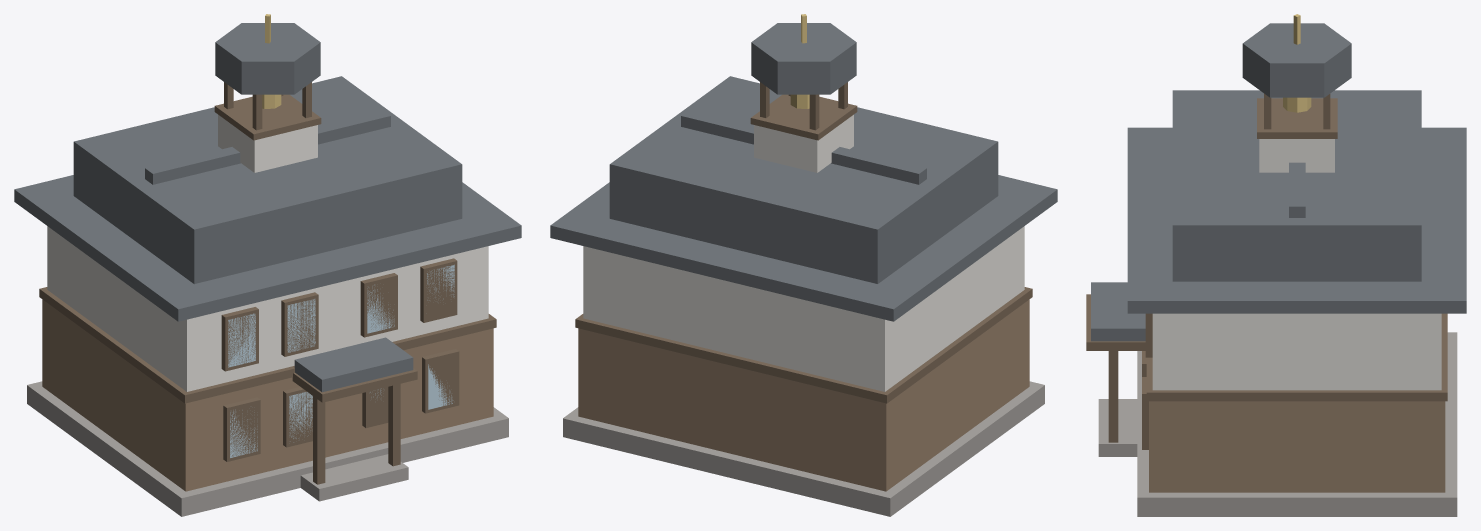
Rendered from civic_school.glb.
The picture shows the model from 3 angles, left to right: view 1: azimuth 30°, elevation 25°; view 2: azimuth 150°, elevation 25°; view 3: azimuth 270°, elevation 25°; orthographic projection. The views are drawn at different scales.
Visible parts, largest first — view 1: Main_Roof_Peak, School_Lower_Body, School_Upper_Body, Main_Roof_Eaves, School_Base, Cupola_Roof, Trim_Mid, Porch_Roof_Slope, Main_Roof_Ridge, Cupola_Base, Porch_Step, Cupola_Trim (+17 smaller); view 2: Main_Roof_Peak, School_Lower_Body, School_Upper_Body, Main_Roof_Eaves, School_Base, Cupola_Roof, Trim_Mid, Main_Roof_Ridge, Cupola_Base, Cupola_Trim; view 3: Main_Roof_Peak, School_Lower_Body, Main_Roof_Eaves, School_Upper_Body, School_Base, Cupola_Roof, Trim_Mid, Porch_Roof_Slope, Cupola_Trim, Cupola_Base, Porch_Step, Porch_Col_R (+3 smaller).
Part boxes in pixels (x1,y1,x2,y2): Main_Roof_Peak: (73,76,462,283); School_Lower_Body: (42,299,493,491); School_Upper_Body: (47,226,488,391); Main_Roof_Eaves: (14,175,521,321); School_Base: (27,381,508,516); Cupola_Roof: (215,23,320,94); Trim_Mid: (39,287,496,403); Porch_Roof_Slope: (294,337,413,392); Main_Roof_Ridge: (145,110,390,184); Cupola_Base: (218,114,317,172); Porch_Step: (300,454,408,501); Cupola_Trim: (214,94,321,140); Main_Roof_Peak: (609,76,998,283); School_Lower_Body: (578,299,1029,491); School_Upper_Body: (583,226,1024,391); Main_Roof_Eaves: (550,175,1057,321); School_Base: (563,381,1044,516); Cupola_Roof: (751,23,856,94); Trim_Mid: (575,287,1032,403); Main_Roof_Ridge: (681,110,926,184); Cupola_Base: (754,114,853,172); Cupola_Trim: (750,94,857,140); Main_Roof_Peak: (1172,90,1421,281); School_Lower_Body: (1149,401,1445,492); Main_Roof_Eaves: (1127,127,1466,313); School_Upper_Body: (1152,313,1441,390); School_Base: (1137,332,1457,516); Cupola_Roof: (1242,23,1351,97); Trim_Mid: (1146,313,1447,401); Porch_Roof_Slope: (1091,282,1145,341); Cupola_Trim: (1257,98,1337,138); Cupola_Base: (1259,139,1334,172); Porch_Step: (1098,399,1137,456); Porch_Col_R: (1108,351,1118,442).
Size of the model in its own units: 3.46 by 3.9 by 3.21.
